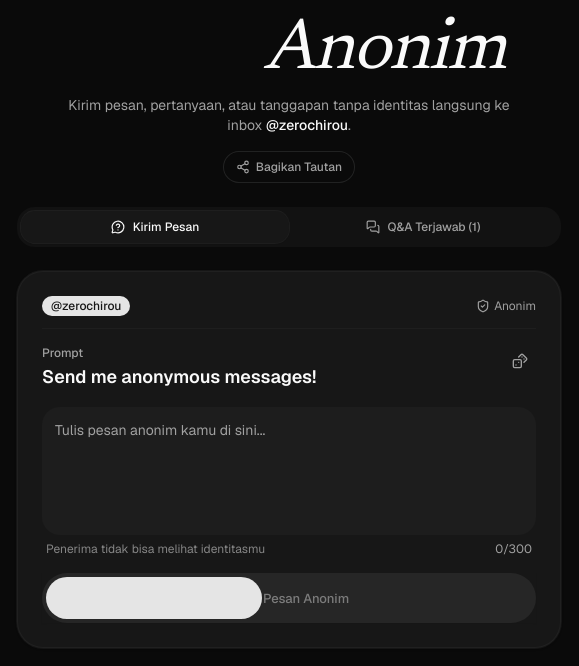
Test case: Send Feature UI Components › SendView › switches to feed view when clicking Q&A Terjawab tab
The image size is (579, 666).
Click the button "Q&A Terjawab (1)": (423, 227) [289,211,557,243]
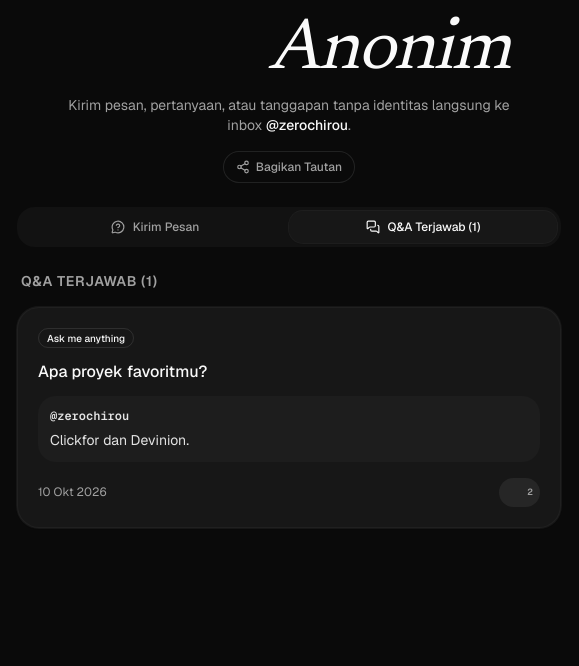
Check: the text "Apa proyek favoritmu?" is shown, box [38,361,207,382]
Check: the text "Clickfor dan Devinion." is shown, box [50,431,189,449]
